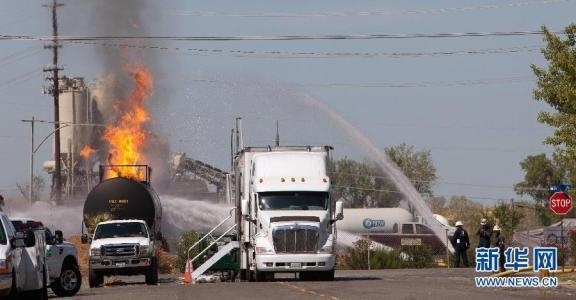fire: (96, 65, 153, 180)
